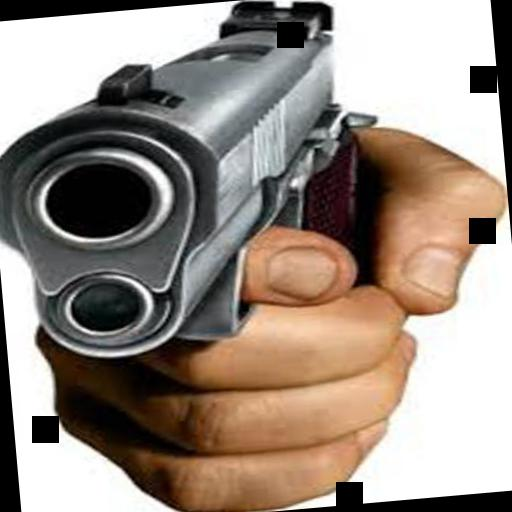Handgun: (0, 0, 392, 377)
